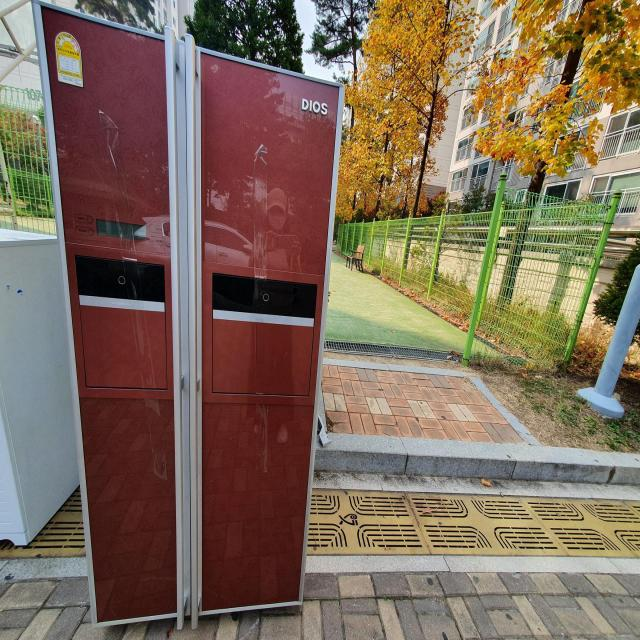refrigerator: (29, 7, 344, 628)
